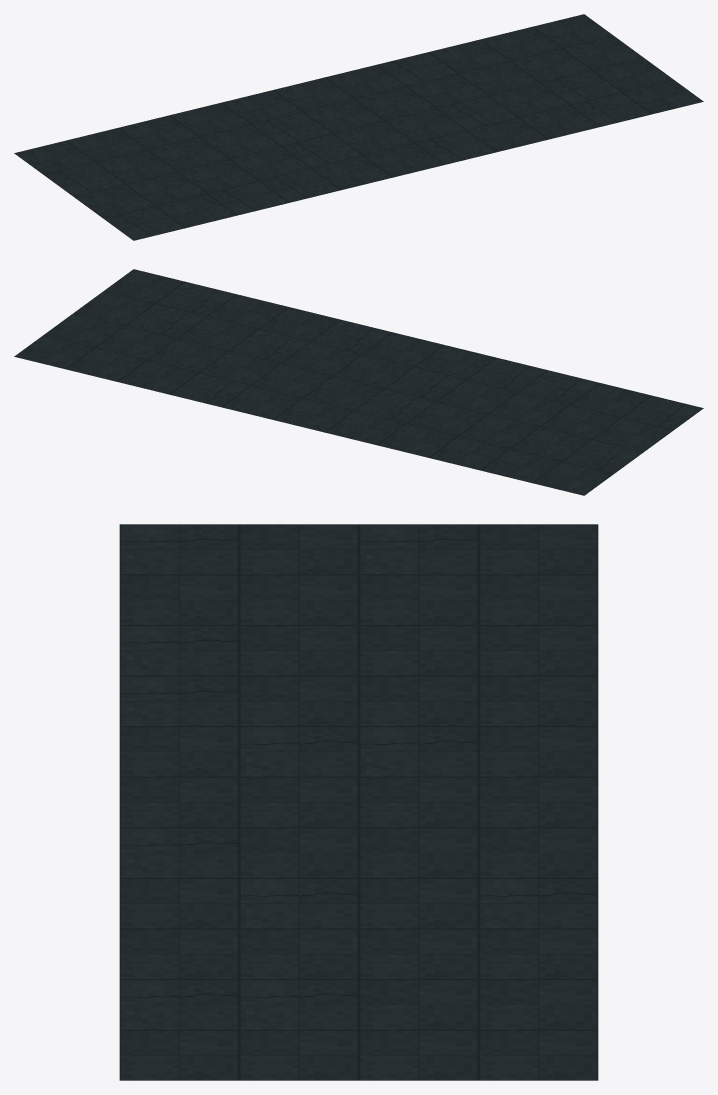
File: T1_FloorStrip_W11_B.fbx
The picture shows the model from 3 angles, top to bottom: view 1: azimuth 30°, elevation 25°; view 2: azimuth 150°, elevation 25°; view 3: azimuth 270°, elevation 25°; orthographic projection. The views are drawn at different scales.
Visible parts, largest first — view 1: T1_FloorStrip_W11_B; view 2: T1_FloorStrip_W11_B; view 3: T1_FloorStrip_W11_B.
Part boxes in pixels (x1,y1,x2,y2): T1_FloorStrip_W11_B: (14,14,703,240); T1_FloorStrip_W11_B: (14,269,703,495); T1_FloorStrip_W11_B: (119,524,598,1080).
Size of the model in its own units: 12.38 by 0 by 4.5.
